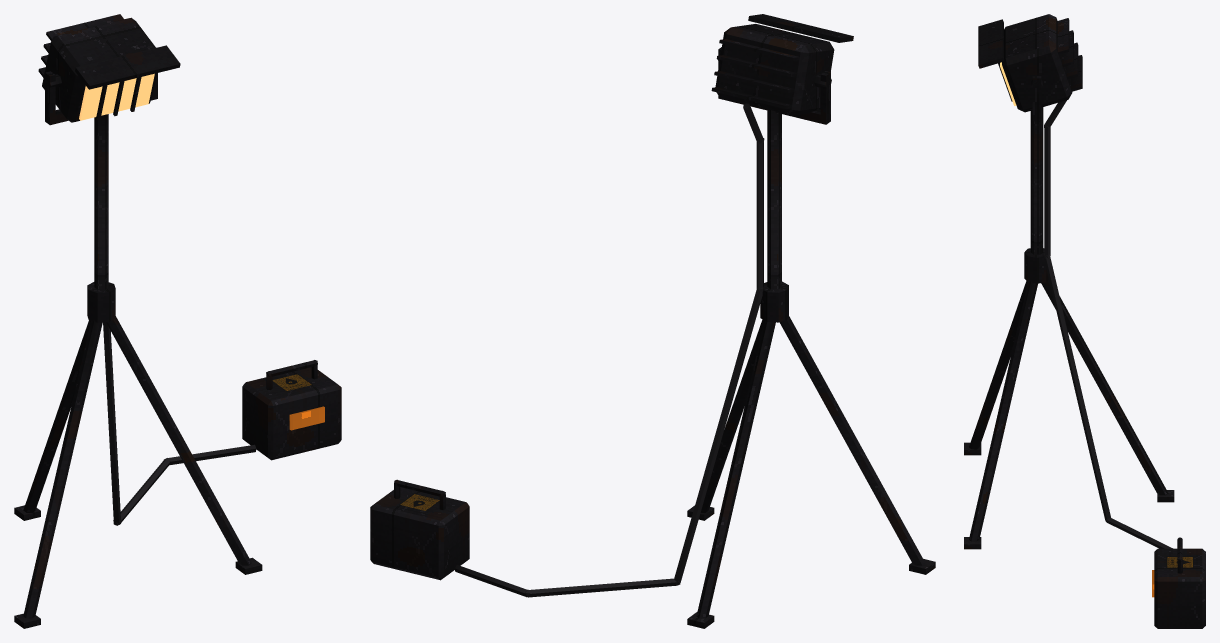
Rendered from floodlight.glb.
3 renders of one model, left to right at view 1: azimuth 30°, elevation 25°; view 2: azimuth 150°, elevation 25°; view 3: azimuth 270°, elevation 25°, orthographic. The views are drawn at different scales.
Parts seen in each view (by area): view 1: body; view 2: body; view 3: body.
Part boxes in pixels (x1=…): body: x1=14, y1=14, x2=341, y2=628; body: x1=370, y1=14, x2=935, y2=628; body: x1=964, y1=14, x2=1205, y2=628.
Size of what is drawn, in the model's own units: 1.51 by 1.82 by 0.845.
6 materials, 4 textured.
